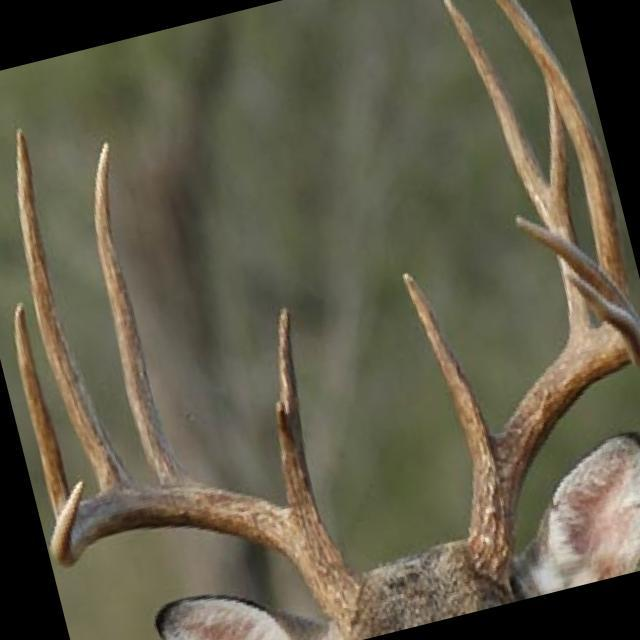L-G1: (401, 270, 501, 487)
R-F: (52, 477, 365, 631)
R-G1: (272, 303, 322, 525)
R-G2: (92, 140, 189, 487)
R-G3: (15, 127, 139, 490)
